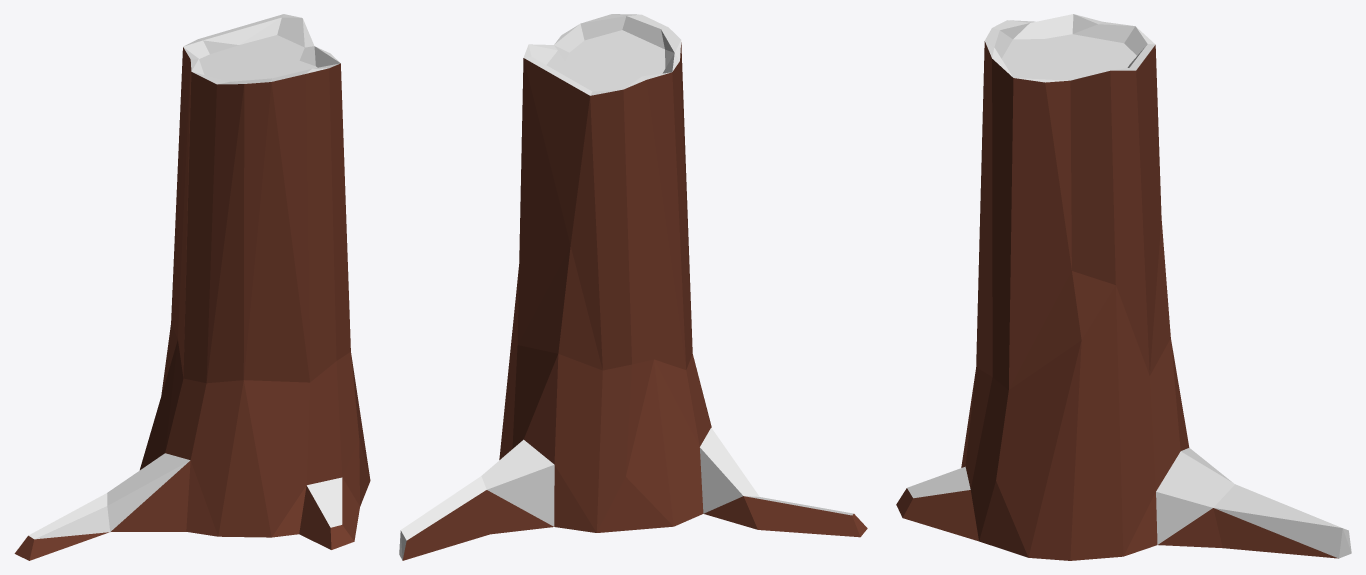
File: pine_trunk_type_6_extra_LOD1.fbx
3 renders of one model, left to right at view 1: azimuth 30°, elevation 25°; view 2: azimuth 150°, elevation 25°; view 3: azimuth 270°, elevation 25°, orthographic. The views are drawn at different scales.
Visible parts, largest first — view 1: pt_type_6.002; view 2: pt_type_6.002; view 3: pt_type_6.002.
Part boxes in pixels (x1,y1,x2,y2): pt_type_6.002: [14, 14, 370, 560]; pt_type_6.002: [399, 14, 867, 560]; pt_type_6.002: [896, 14, 1351, 560].
Size of the model in its own units: 345 by 424 by 368.
